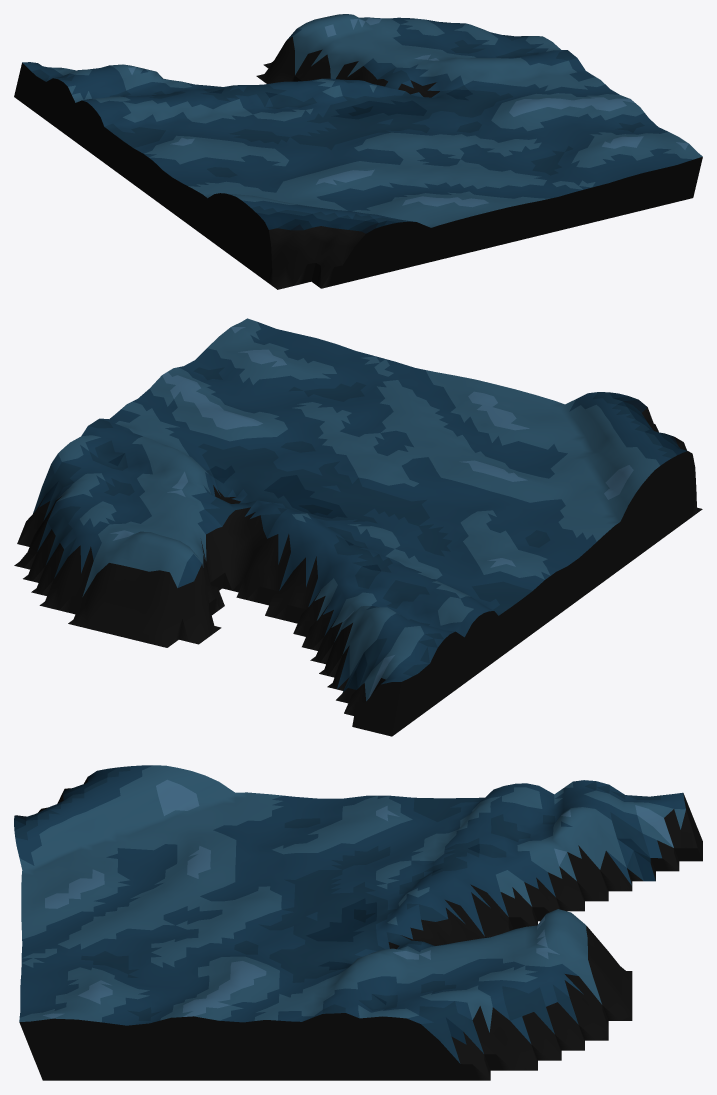
Rendered from gryphon_41.glb.
3 views of the same model, one above another, from view 1: azimuth 30°, elevation 25°; view 2: azimuth 150°, elevation 25°; view 3: azimuth 270°, elevation 25° (orthographic). The views are drawn at different scales.
Visible parts, largest first — view 1: gryphon_41; view 2: gryphon_41; view 3: gryphon_41.
Boxes of the visible parts, x1,y1,x2,y2 form: gryphon_41: (14,14,702,289); gryphon_41: (14,318,702,736); gryphon_41: (14,765,702,1080).
Size of the model in its own units: 24 by 3.57 by 29.22.
